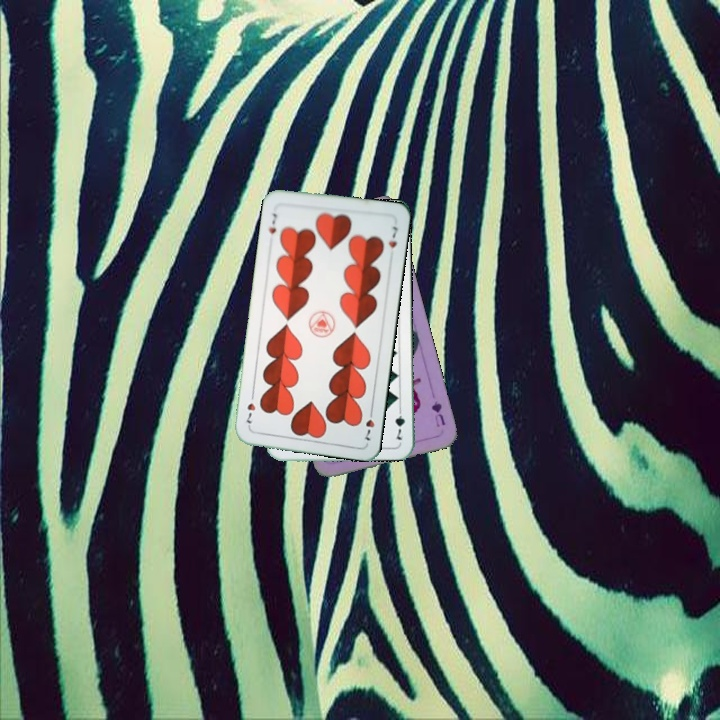G7: (391, 403, 407, 442)
GU: (427, 397, 448, 429)
H7: (361, 404, 377, 443), (265, 209, 280, 236)
